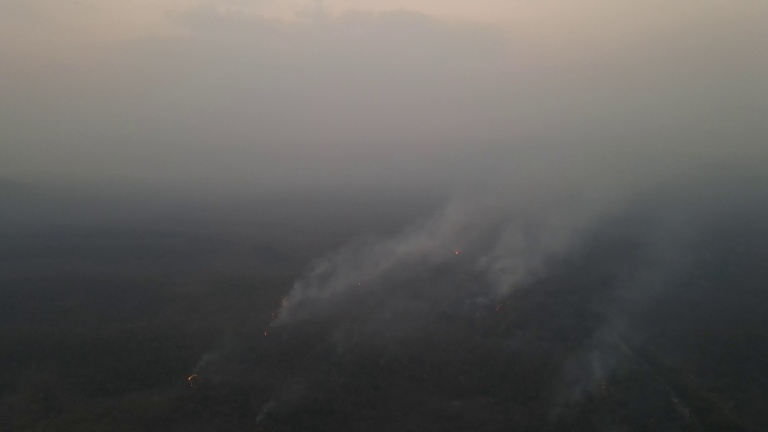fire: (260, 289, 297, 338), (494, 285, 515, 315), (182, 372, 203, 388), (598, 377, 608, 398), (452, 250, 464, 260), (355, 279, 366, 289)
smoke: (271, 127, 619, 350), (549, 252, 677, 418), (253, 383, 303, 424), (195, 339, 234, 384)
